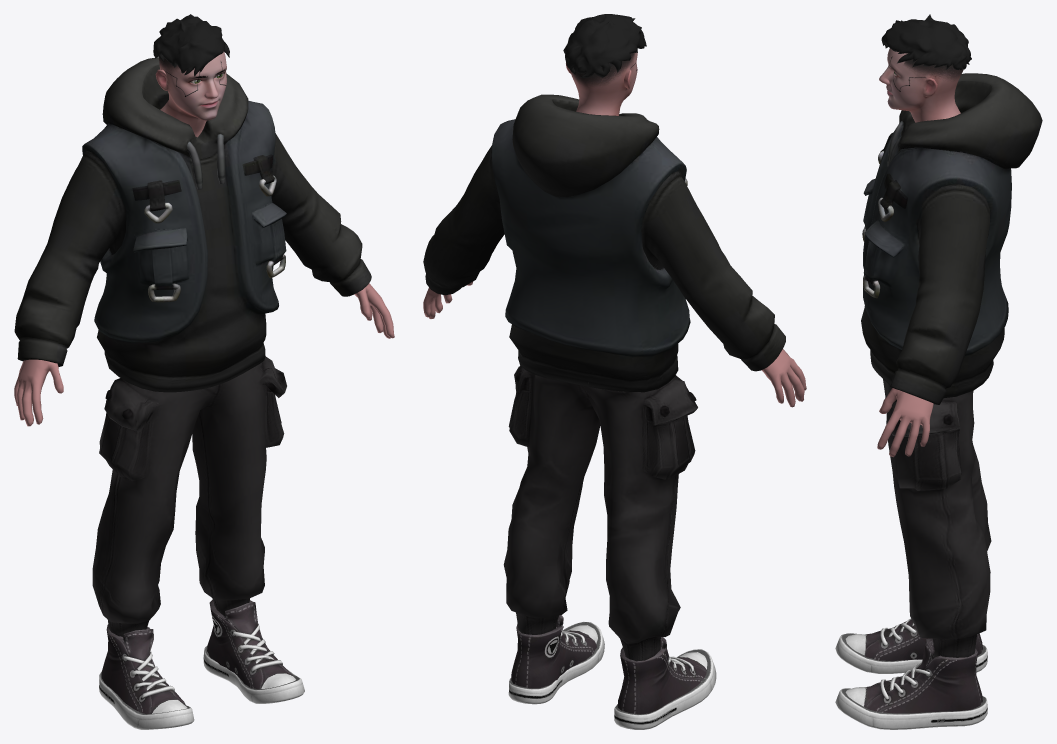
The model's file is Male.glb.
The picture shows the model from 3 angles, left to right: view 1: azimuth 30°, elevation 25°; view 2: azimuth 150°, elevation 25°; view 3: azimuth 270°, elevation 25°; orthographic projection.
Parts seen in each view (by area): view 1: Wolf3D_Outfit_Top, Wolf3D_Outfit_Bottom, Wolf3D_Outfit_Footwear, Wolf3D_Head, Wolf3D_Body, Wolf3D_Hair; view 2: Wolf3D_Outfit_Top, Wolf3D_Outfit_Bottom, Wolf3D_Outfit_Footwear, Wolf3D_Hair, Wolf3D_Head, Wolf3D_Body; view 3: Wolf3D_Outfit_Top, Wolf3D_Outfit_Bottom, Wolf3D_Outfit_Footwear, Wolf3D_Head, Wolf3D_Hair, Wolf3D_Body.
Boxes of the visible parts, bbox=[...] form: Wolf3D_Outfit_Top: bbox=[14, 57, 371, 392]; Wolf3D_Outfit_Bottom: bbox=[92, 356, 286, 637]; Wolf3D_Outfit_Footwear: bbox=[99, 599, 304, 729]; Wolf3D_Head: bbox=[155, 51, 226, 137]; Wolf3D_Body: bbox=[14, 283, 394, 426]; Wolf3D_Hair: bbox=[153, 14, 229, 76]; Wolf3D_Outfit_Top: bbox=[423, 94, 785, 392]; Wolf3D_Outfit_Bottom: bbox=[503, 366, 697, 661]; Wolf3D_Outfit_Footwear: bbox=[508, 615, 716, 729]; Wolf3D_Hair: bbox=[563, 14, 646, 77]; Wolf3D_Head: bbox=[566, 52, 637, 115]; Wolf3D_Body: bbox=[423, 281, 806, 407]; Wolf3D_Outfit_Top: bbox=[861, 73, 1042, 404]; Wolf3D_Outfit_Bottom: bbox=[883, 379, 991, 657]; Wolf3D_Outfit_Footwear: bbox=[835, 618, 987, 729]; Wolf3D_Head: bbox=[879, 48, 963, 122]; Wolf3D_Hair: bbox=[881, 14, 971, 69]; Wolf3D_Body: bbox=[877, 388, 933, 457].
Size of the model in its own units: 1.06 by 1.86 by 0.5196.
8 materials, 8 textured.
